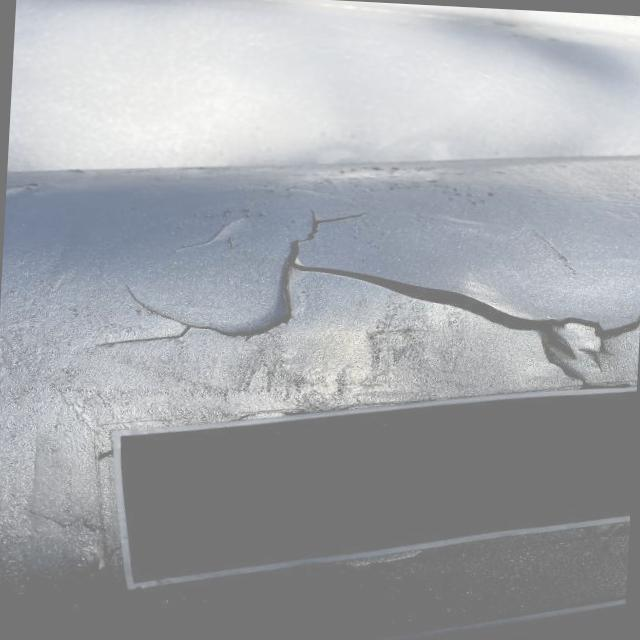crack: (279, 219, 640, 345), (98, 280, 312, 368), (176, 214, 258, 260)
